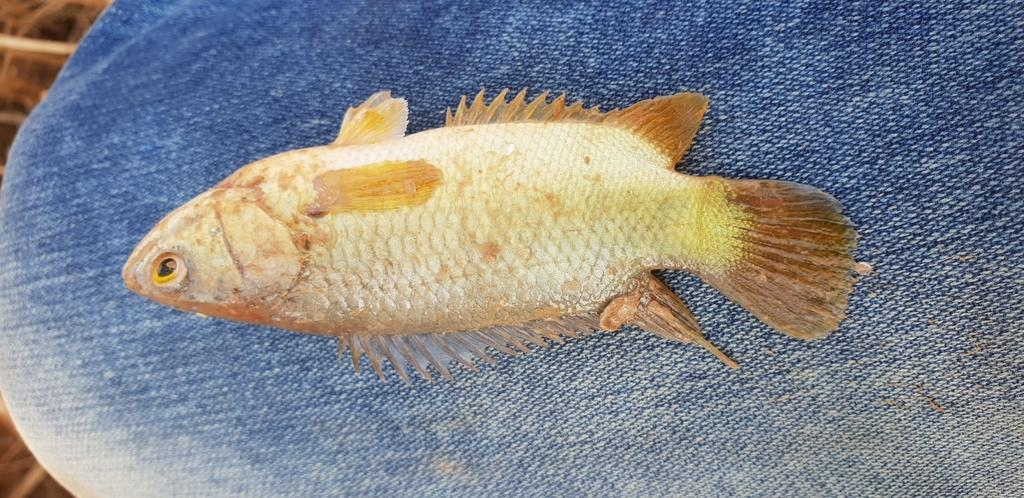Climbing Perch: (125, 90, 857, 376)
